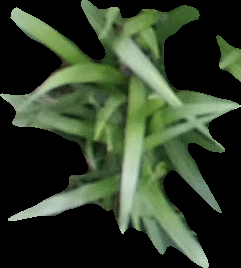grass: (1, 1, 239, 266)
